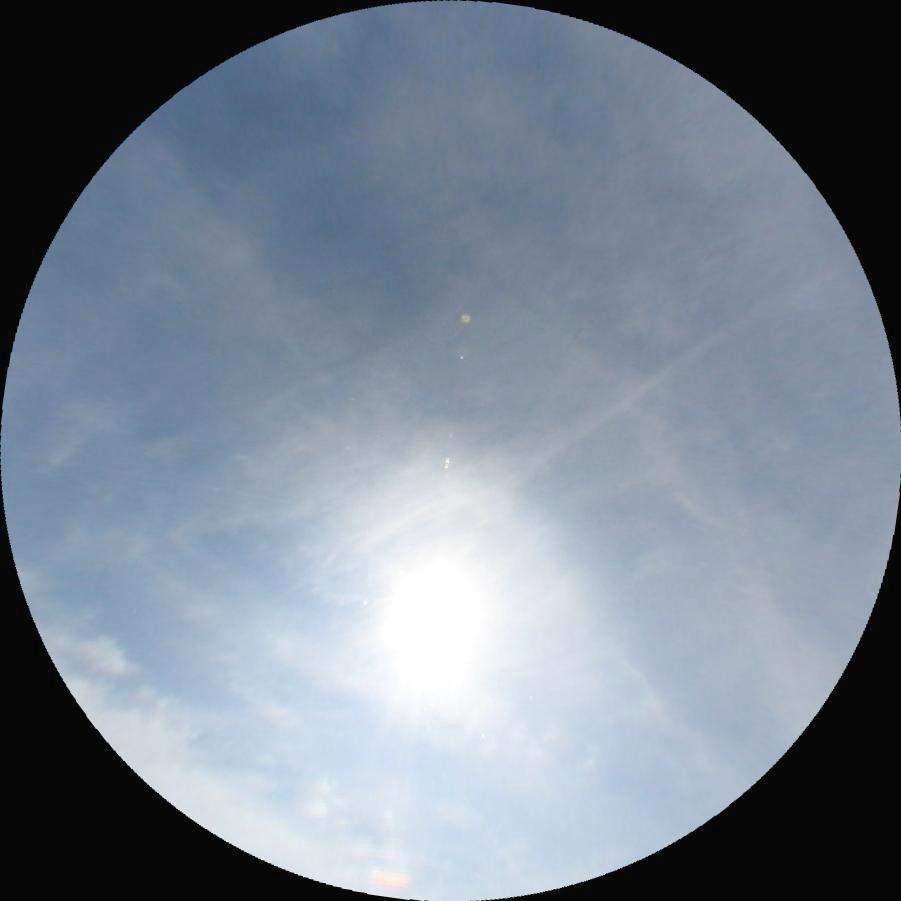contrail veryold: (356, 280, 817, 580)
sun: (373, 558, 487, 693)
